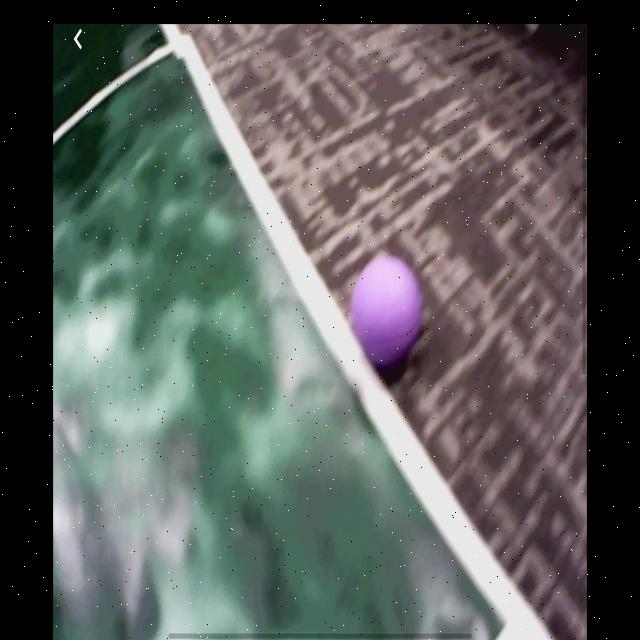ball: (350, 254, 424, 374)
